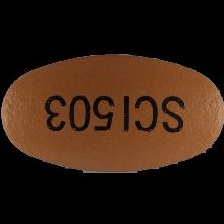66993-475: (0, 0, 224, 224)
